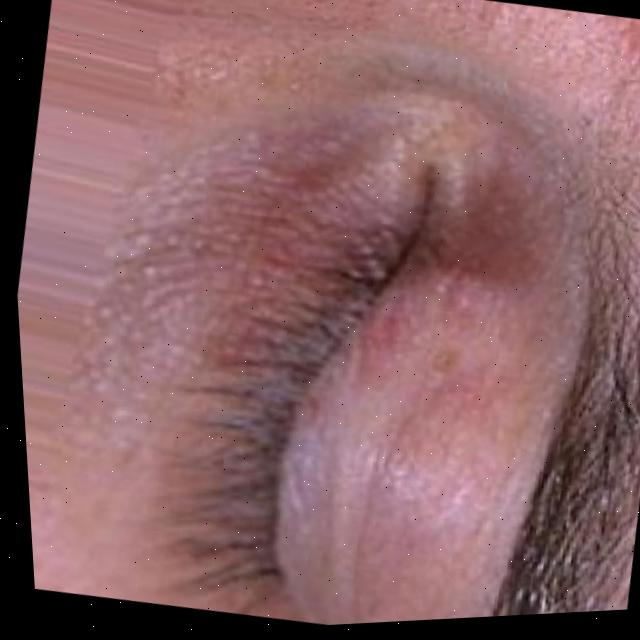Rosacea: (587, 11, 640, 96)
